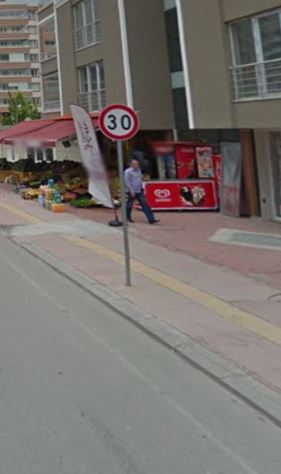30 Km Hiz Siniri: (97, 105, 140, 140)
